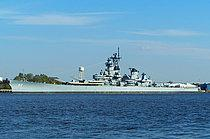MIL_Ship: (9, 51, 200, 94)
